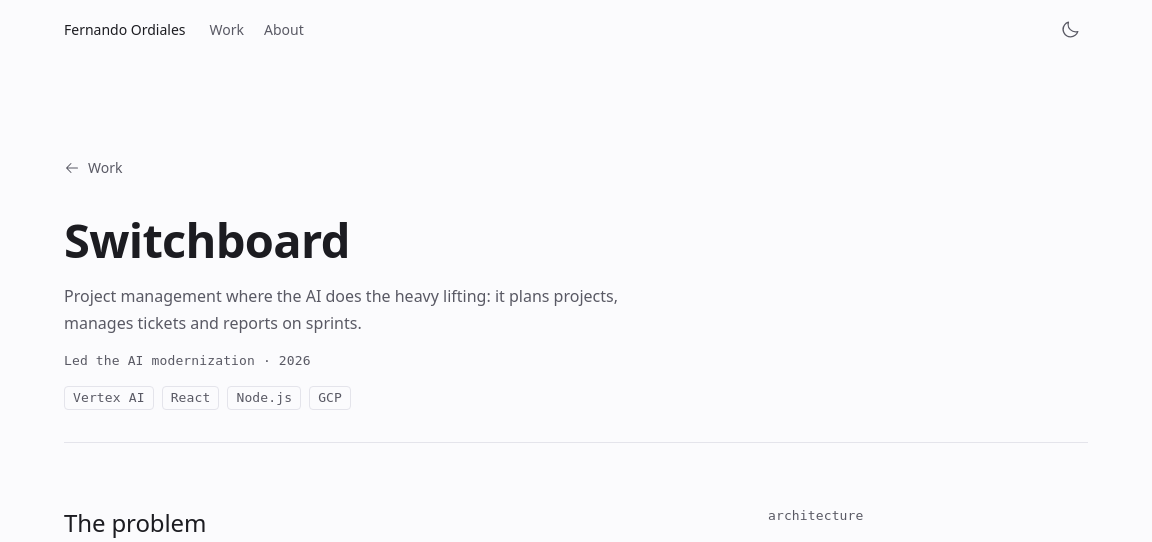
Scenario: AppRoutes › lands on the work section when returning from a case study
Click the link with aria-label "Back to work": (93, 168) [64,158,122,178]
(page scrolled)
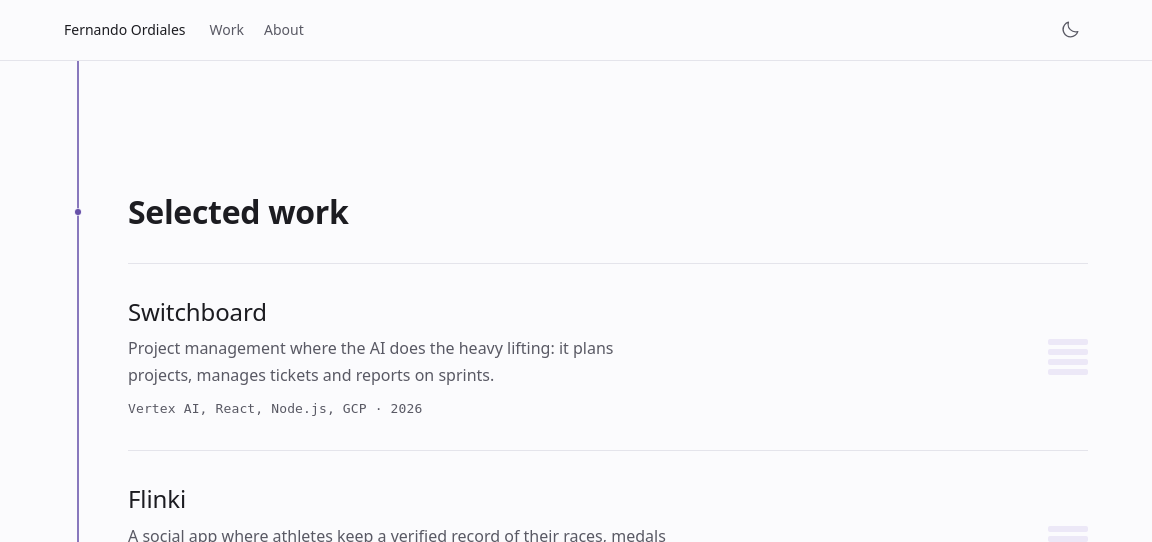
Expected: the heading "Selected work" is shown, [128,190,348,233]
